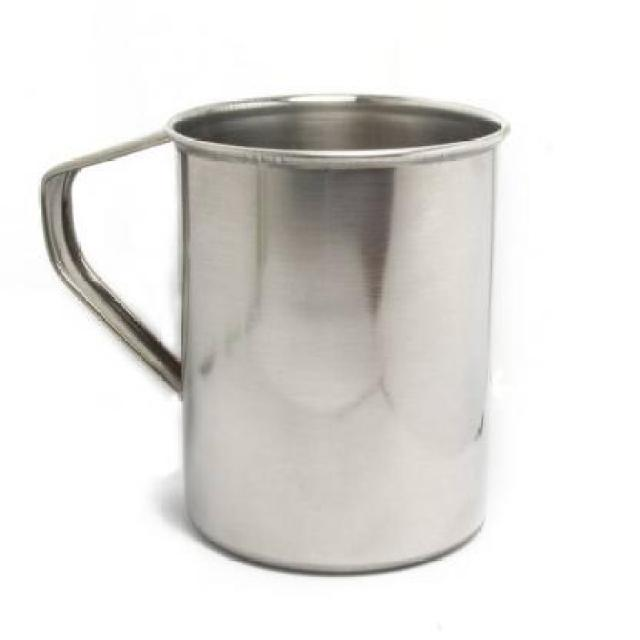cup: (35, 74, 518, 586)
